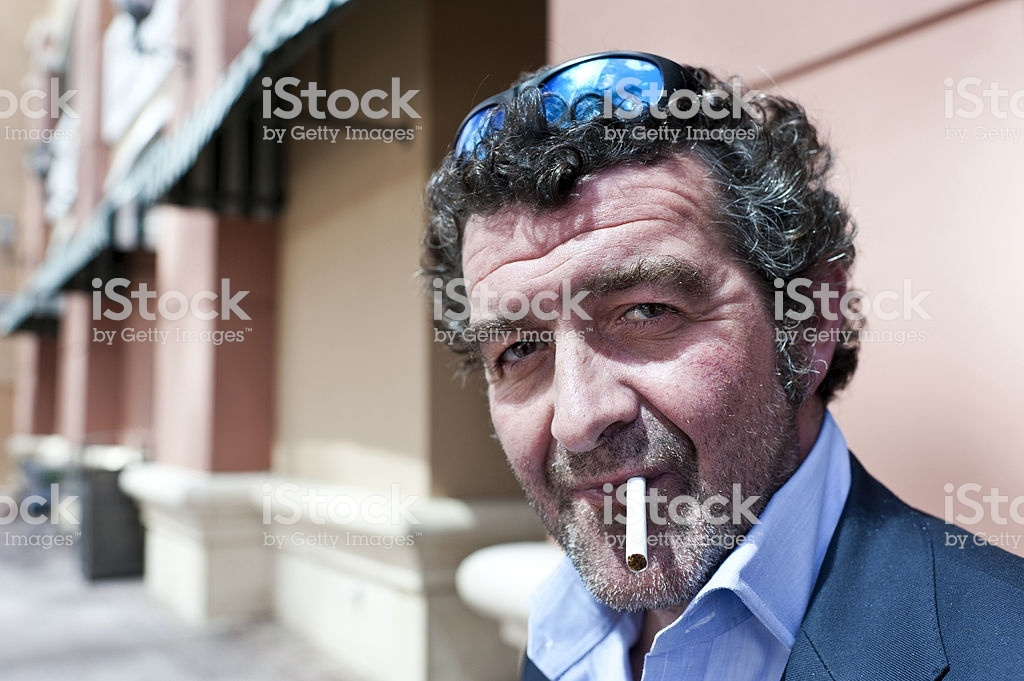sigaretta: (617, 464, 653, 575)
